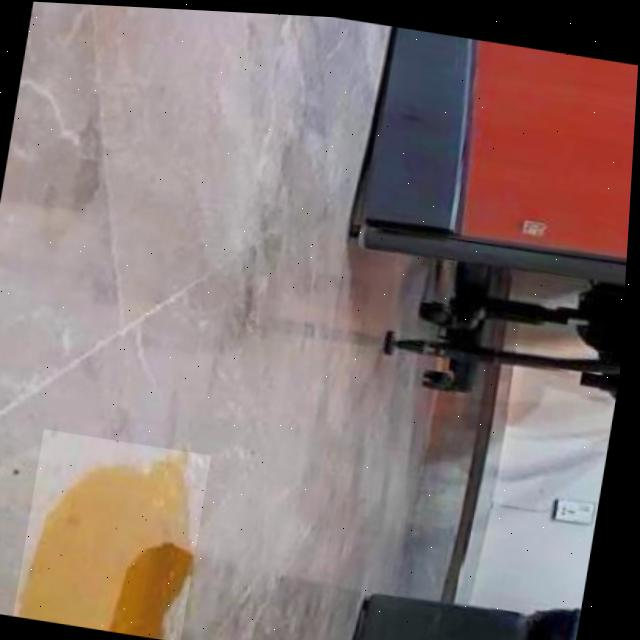spillage: (20, 447, 199, 637)
